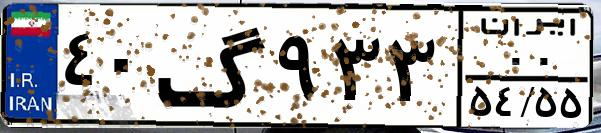0: (110, 28, 156, 98), (537, 27, 568, 80), (508, 27, 537, 80)
3: (385, 28, 445, 110), (330, 28, 385, 110)
4: (57, 26, 110, 100), (495, 70, 520, 125)
5: (560, 70, 590, 125), (470, 70, 495, 125), (535, 70, 560, 125)
9: (270, 28, 330, 110)
گ: (156, 12, 270, 120)
